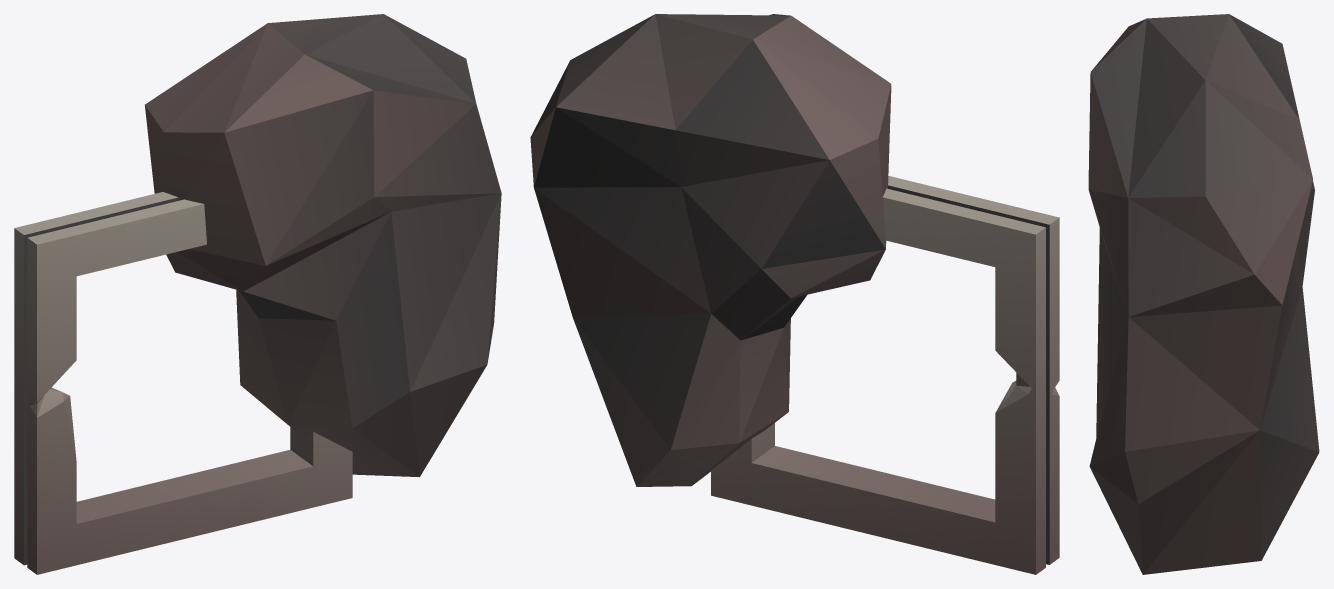
File: anneau_astero01.FBX
3 views of the same model, side by side, from view 1: azimuth 30°, elevation 25°; view 2: azimuth 150°, elevation 25°; view 3: azimuth 270°, elevation 25° (orthographic). The views are drawn at different scales.
Parts seen in each view (by area): view 1: anneau_astero01; view 2: anneau_astero01; view 3: anneau_astero01.
Boxes of the visible parts, x1,y1,x2,y2 form: anneau_astero01: (14,14,501,574); anneau_astero01: (530,14,1059,574); anneau_astero01: (1088,14,1319,574).
Size of the model in its own units: 29.69 by 28.04 by 11.49.
